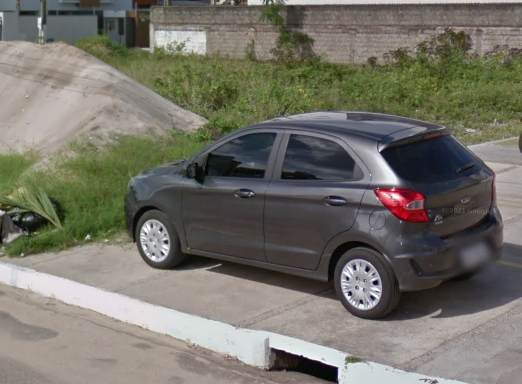car: (122, 99, 507, 324)
